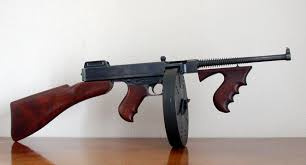gun: (7, 46, 292, 151)
